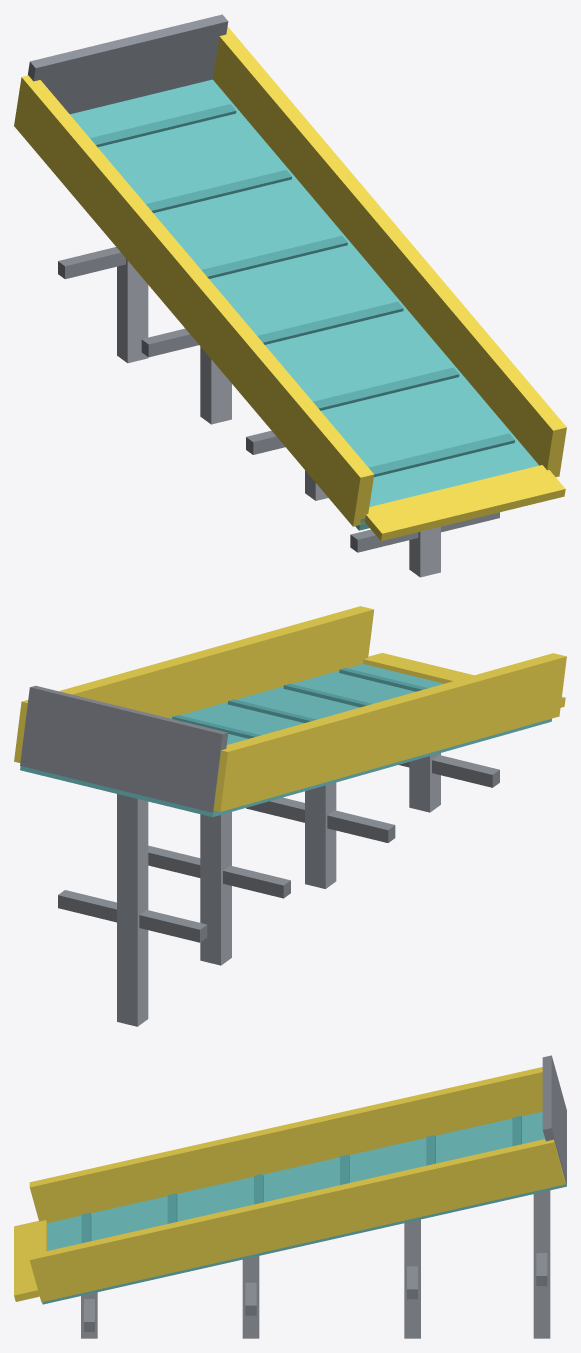
Rendered from slide.glb.
3 views of the same model, one above another, from view 1: azimuth 30°, elevation 25°; view 2: azimuth 150°, elevation 25°; view 3: azimuth 270°, elevation 25° (orthographic). The views are drawn at different scales.
Parts seen in each view (by area): view 1: slide; view 2: slide; view 3: slide.
Boxes of the visible parts, <box> form: slide: <box>14,14,566,577</box>; slide: <box>14,606,566,1026</box>; slide: <box>14,1055,566,1338</box>.
Size of the model in its own units: 1 by 1.45 by 3.
